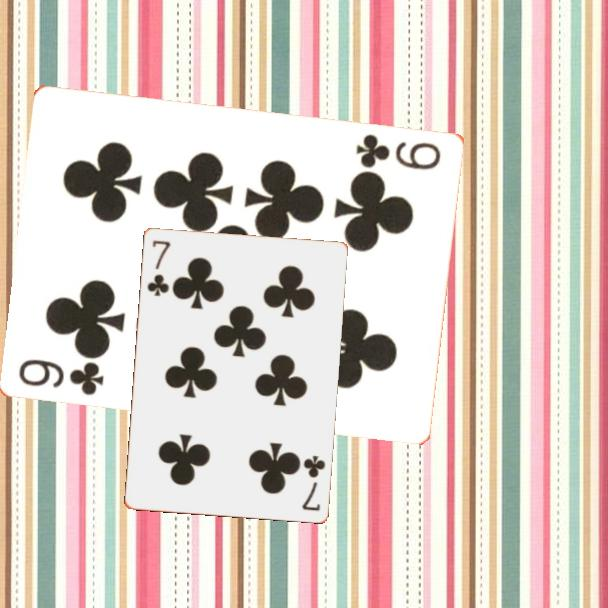c07: (298, 452, 328, 514), (144, 236, 173, 299)
c09: (15, 355, 108, 398), (353, 130, 445, 173)
